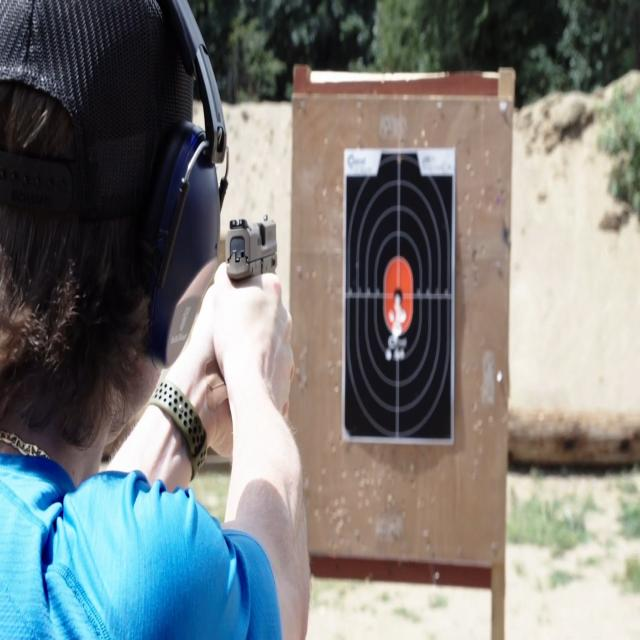Gun_Holder: (208, 185, 292, 356)
Person: (2, 0, 308, 640)
